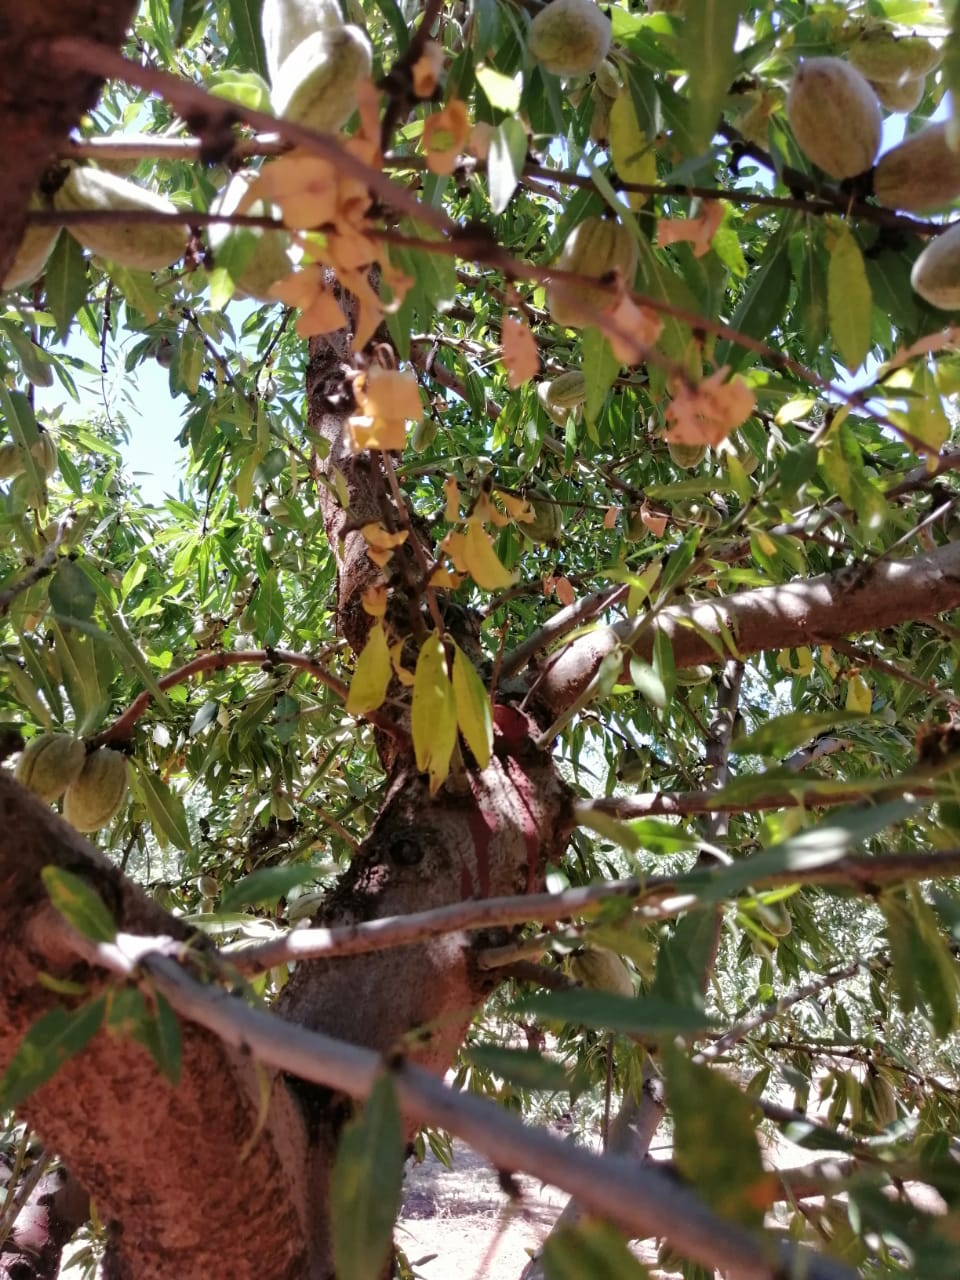chancre fusicocum: (233, 149, 675, 373), (444, 475, 675, 538)
